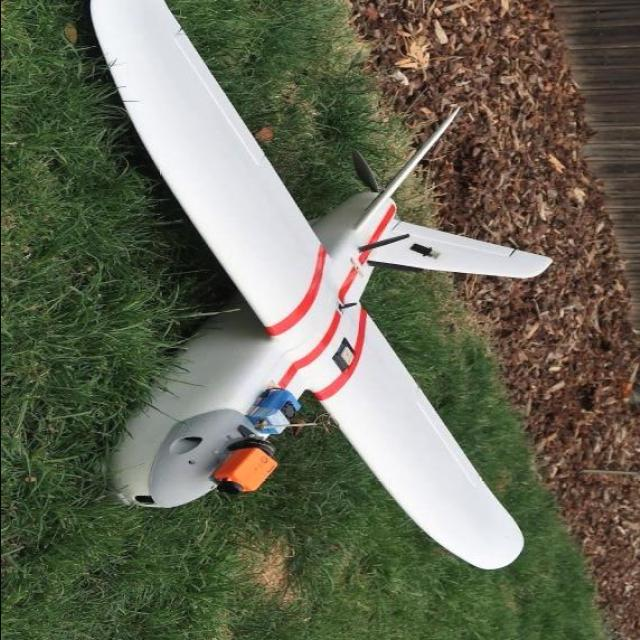plane: (85, 1, 554, 570)
